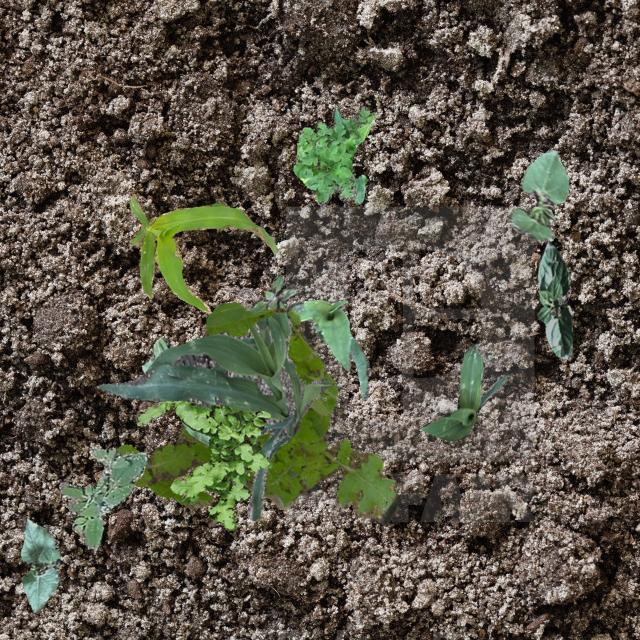crop: (96, 310, 332, 520), (128, 192, 276, 312), (421, 342, 506, 440), (294, 297, 368, 398), (140, 338, 210, 443), (507, 148, 568, 240), (536, 240, 572, 358), (20, 518, 60, 612)
weed: (114, 301, 398, 524), (134, 400, 270, 530), (57, 446, 146, 548), (292, 104, 376, 204), (246, 274, 304, 312)
